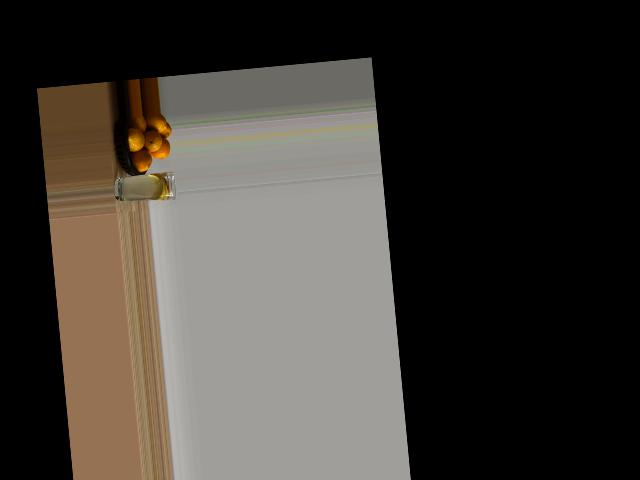lemon: (143, 112, 169, 136)
